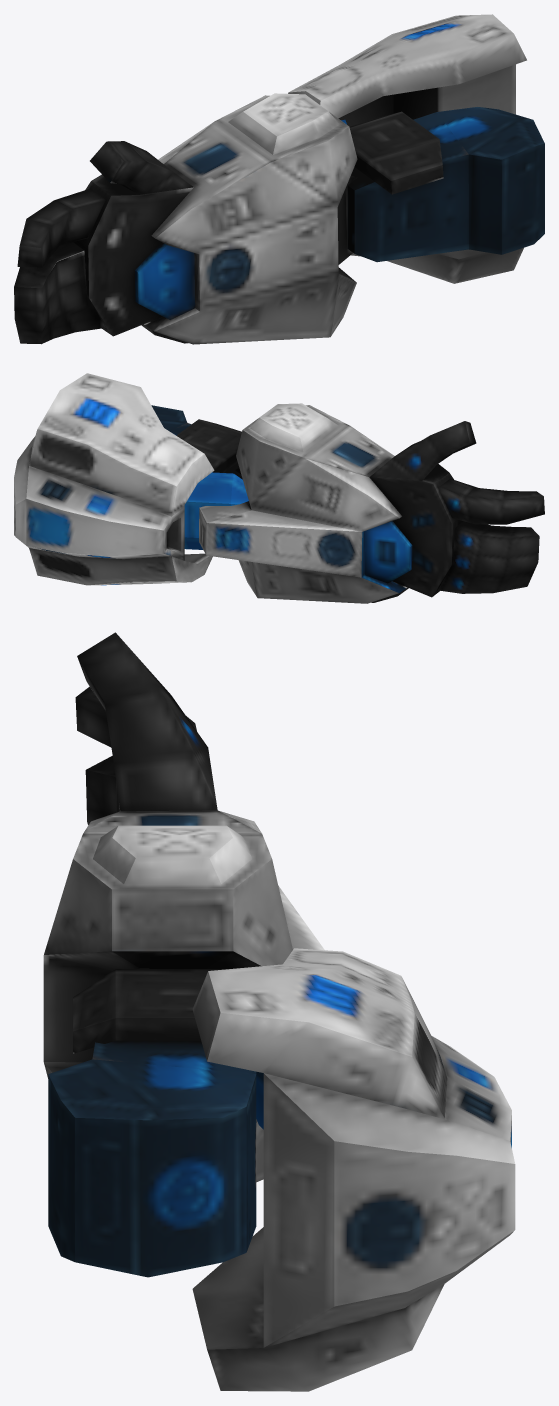
File: PBR_HP_Mesh_Arm1_R.fbx
3 views of the same model, one above another, from view 1: azimuth 30°, elevation 25°; view 2: azimuth 150°, elevation 25°; view 3: azimuth 270°, elevation 25° (orthographic). The views are drawn at different scales.
Parts seen in each view (by area): view 1: Arm1; view 2: Arm1; view 3: Arm1.
Part boxes in pixels (left/top/right/bottom): Arm1: left=14, top=14, right=544, bottom=344; Arm1: left=14, top=373, right=544, bottom=603; Arm1: left=43, top=632, right=515, bottom=1391.
Bounding box in the file's own units: 117 × 51.19 × 52.63.
